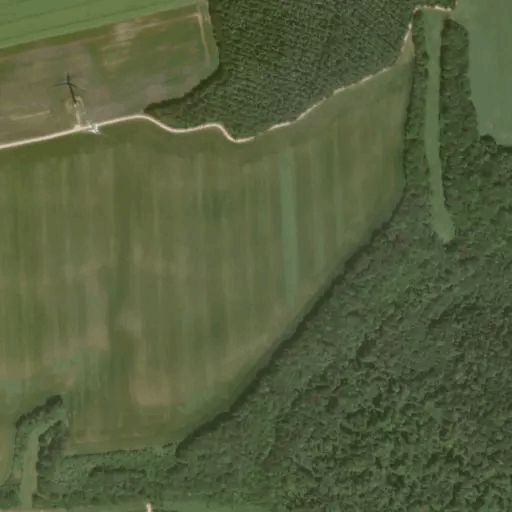wt: (52, 71, 105, 138)
